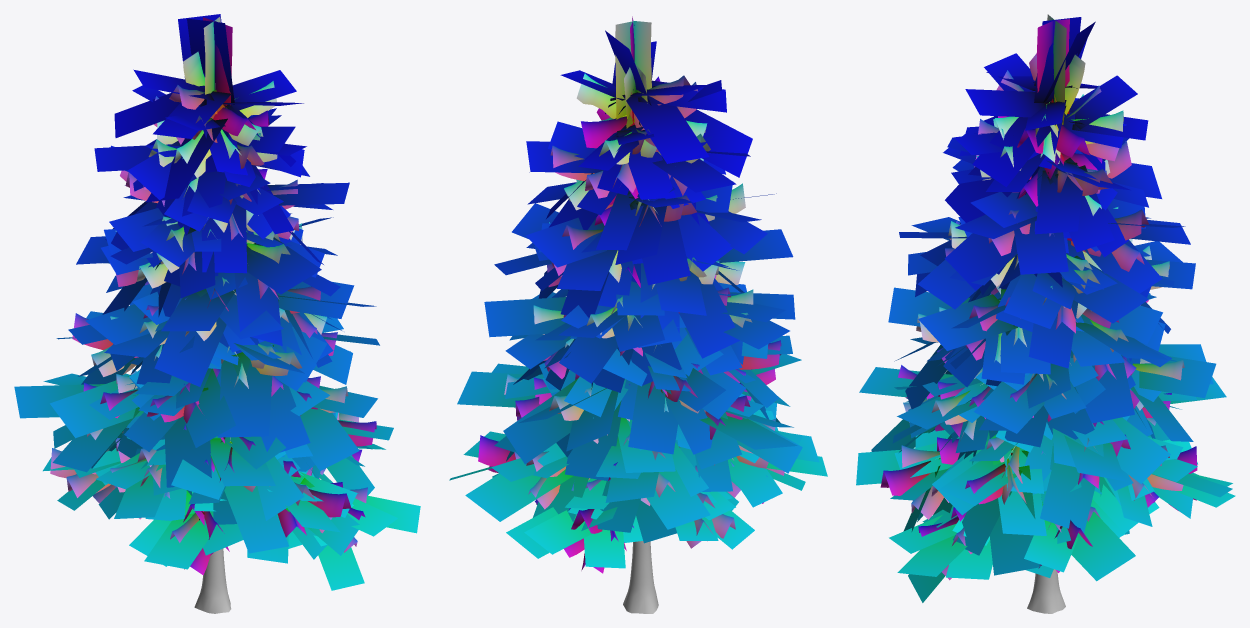
File: spruce_01_1.fbx
3 renders of one model, left to right at view 1: azimuth 30°, elevation 25°; view 2: azimuth 150°, elevation 25°; view 3: azimuth 270°, elevation 25°, orthographic.
Visible parts, largest first — view 1: spruce_leaves_01_1_shadow, spruce_leaves_01_1_lod_0, spruce_tree_01_1_lod_0; view 2: spruce_leaves_01_1_shadow, spruce_leaves_01_1_lod_0, spruce_tree_01_1_lod_0; view 3: spruce_leaves_01_1_shadow, spruce_leaves_01_1_lod_0, spruce_tree_01_1_lod_0.
Boxes of the visible parts, <box> form: spruce_leaves_01_1_shadow: <box>14,14,420,590</box>; spruce_leaves_01_1_lod_0: <box>50,16,376,575</box>; spruce_tree_01_1_lod_0: <box>194,83,247,613</box>; spruce_leaves_01_1_shadow: <box>449,25,827,568</box>; spruce_leaves_01_1_lod_0: <box>478,16,784,573</box>; spruce_tree_01_1_lod_0: <box>623,541,658,613</box>; spruce_leaves_01_1_shadow: <box>856,17,1235,602</box>; spruce_leaves_01_1_lod_0: <box>880,14,1197,580</box>; spruce_tree_01_1_lod_0: <box>939,102,1065,613</box>.
Size of what is drawn, in the model's own units: 10.91 by 17.76 by 10.37.
